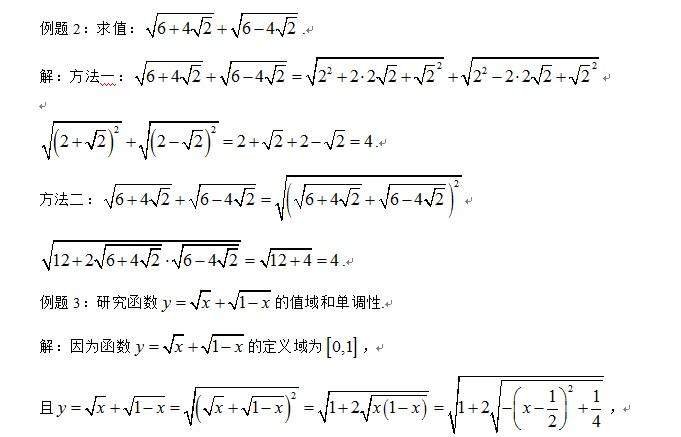division: (545, 405, 559, 413), (590, 406, 601, 413)
sqrt: (446, 371, 617, 437), (276, 171, 462, 225), (39, 235, 243, 277), (492, 378, 602, 433), (463, 52, 603, 93), (181, 382, 302, 428), (305, 55, 449, 92), (317, 385, 432, 430), (33, 118, 123, 163), (138, 116, 222, 162), (104, 180, 178, 220), (136, 57, 211, 93), (218, 58, 293, 94), (294, 181, 369, 215), (229, 9, 299, 44), (187, 180, 259, 214), (146, 8, 217, 42), (378, 181, 450, 214), (362, 393, 431, 424), (96, 243, 166, 271), (175, 242, 239, 272), (259, 245, 314, 275), (122, 389, 166, 422), (201, 330, 246, 360), (228, 286, 272, 315), (242, 392, 286, 418), (413, 63, 444, 89), (262, 128, 290, 154), (83, 392, 108, 421), (89, 127, 113, 157), (189, 287, 212, 315), (570, 61, 592, 89), (148, 187, 173, 211), (162, 333, 186, 358), (182, 128, 205, 152), (529, 63, 554, 85), (236, 187, 262, 208), (274, 15, 296, 39), (325, 127, 344, 154), (205, 394, 225, 419), (181, 63, 201, 87), (266, 64, 287, 86), (425, 187, 446, 209), (219, 248, 239, 271), (143, 247, 163, 270), (193, 16, 213, 38), (379, 62, 398, 85), (341, 188, 361, 207)
square: (589, 59, 601, 71), (288, 389, 298, 403), (110, 123, 120, 136), (326, 64, 335, 77), (434, 60, 443, 72), (453, 178, 463, 188), (208, 124, 217, 134), (567, 384, 574, 395)
